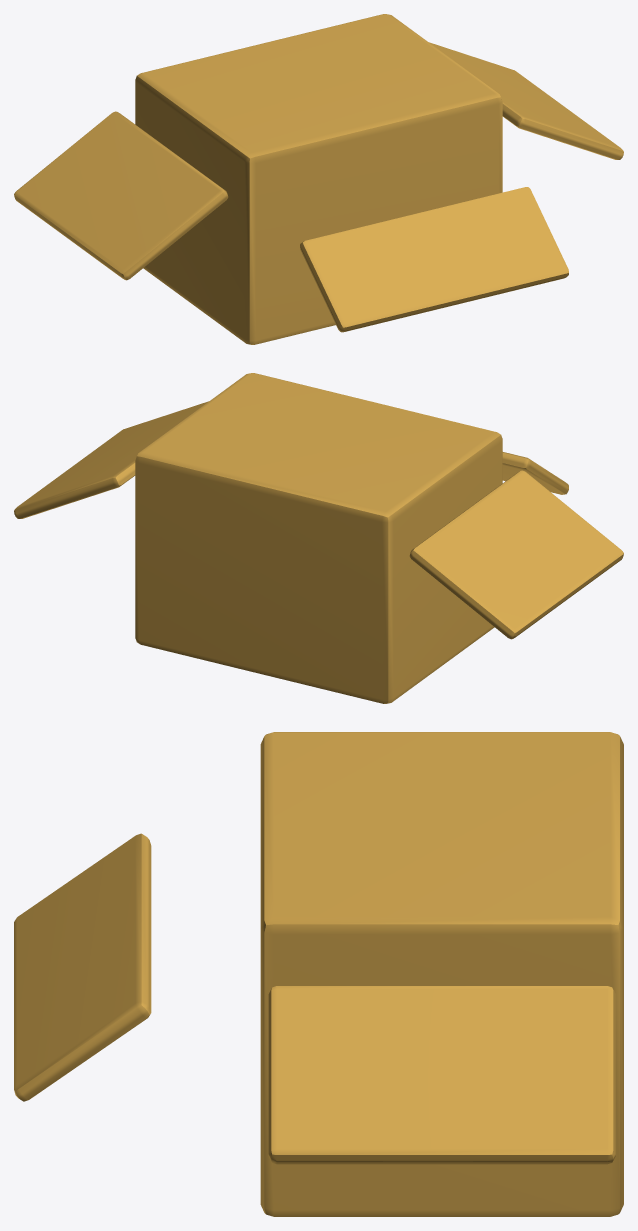
Rendered from prop_cardboard_box.glb.
The picture shows the model from 3 angles, top to bottom: view 1: azimuth 30°, elevation 25°; view 2: azimuth 150°, elevation 25°; view 3: azimuth 270°, elevation 25°; orthographic projection. The views are drawn at different scales.
Visible parts, largest first — view 1: card_body, card_flap_f, card_flap_l, card_flap_r; view 2: card_body, card_flap_l, card_flap_r, card_flap_f; view 3: card_body, card_flap_r, card_flap_f.
Part boxes in pixels (x1,y1,x2,y2): card_body: (135,14,502,344); card_flap_f: (300,187,568,332); card_flap_l: (14,111,228,280); card_flap_r: (429,42,623,159); card_body: (135,373,502,703); card_flap_l: (409,470,623,639); card_flap_r: (14,401,208,518); card_flap_f: (502,452,568,494); card_body: (260,732,623,1216); card_flap_r: (268,986,615,1164); card_flap_f: (14,833,151,1101).
Size of the model in its own units: 1.09 by 0.4 by 0.7384.
